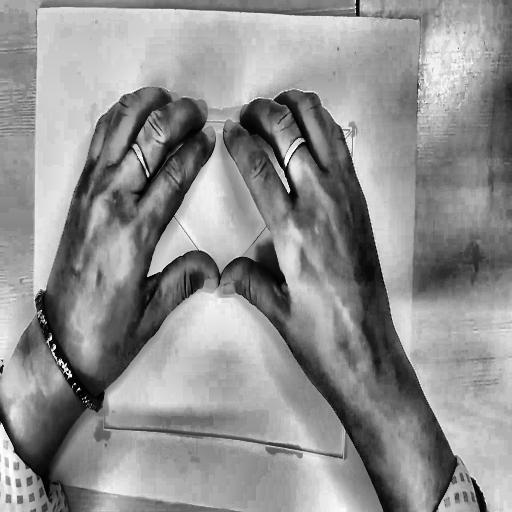bottom_left: (34, 469, 40, 479)
envelop: (96, 104, 360, 470)
top_left: (34, 5, 40, 15)
top_right: (417, 15, 424, 26)
